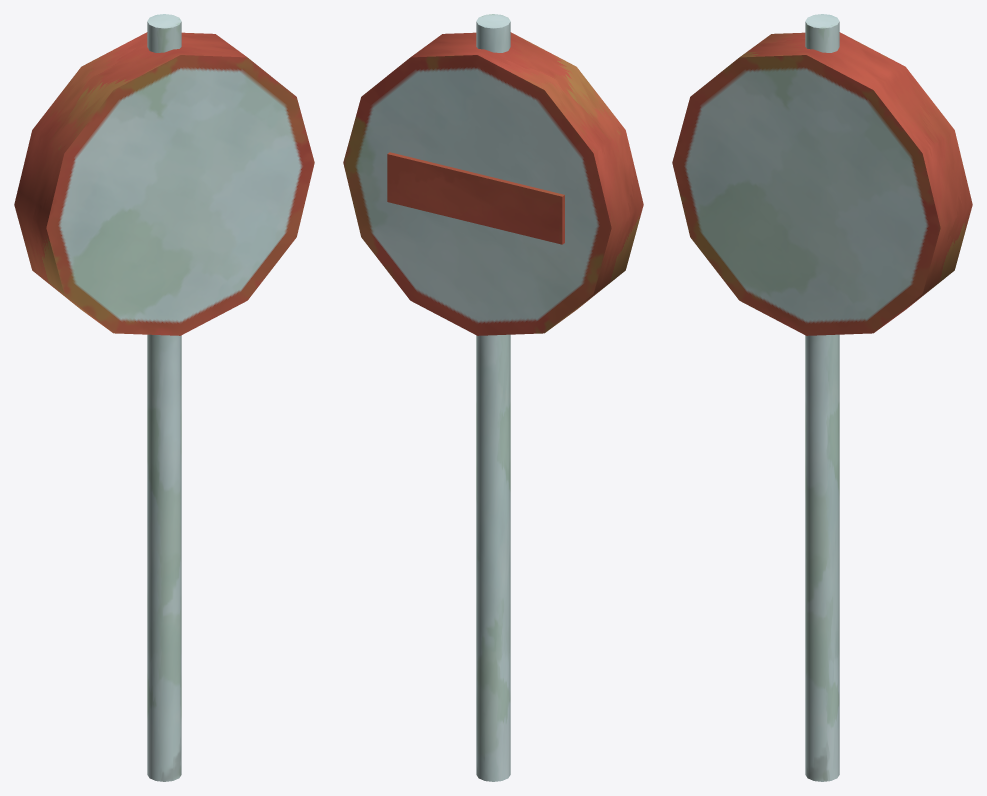
The model's file is Panneau Stop.fbx.
The picture shows the model from 3 angles, left to right: view 1: azimuth 30°, elevation 25°; view 2: azimuth 150°, elevation 25°; view 3: azimuth 330°, elevation 25°; orthographic projection.
Parts seen in each view (by area): view 1: Panneau stoooop; view 2: Panneau stoooop; view 3: Panneau stoooop.
Boxes of the visible parts, x1,y1,x2,y2 form: Panneau stoooop: (14, 14, 314, 781); Panneau stoooop: (343, 14, 643, 781); Panneau stoooop: (672, 14, 972, 781).
Size of the model in its own units: 248 by 666 by 55.52.
